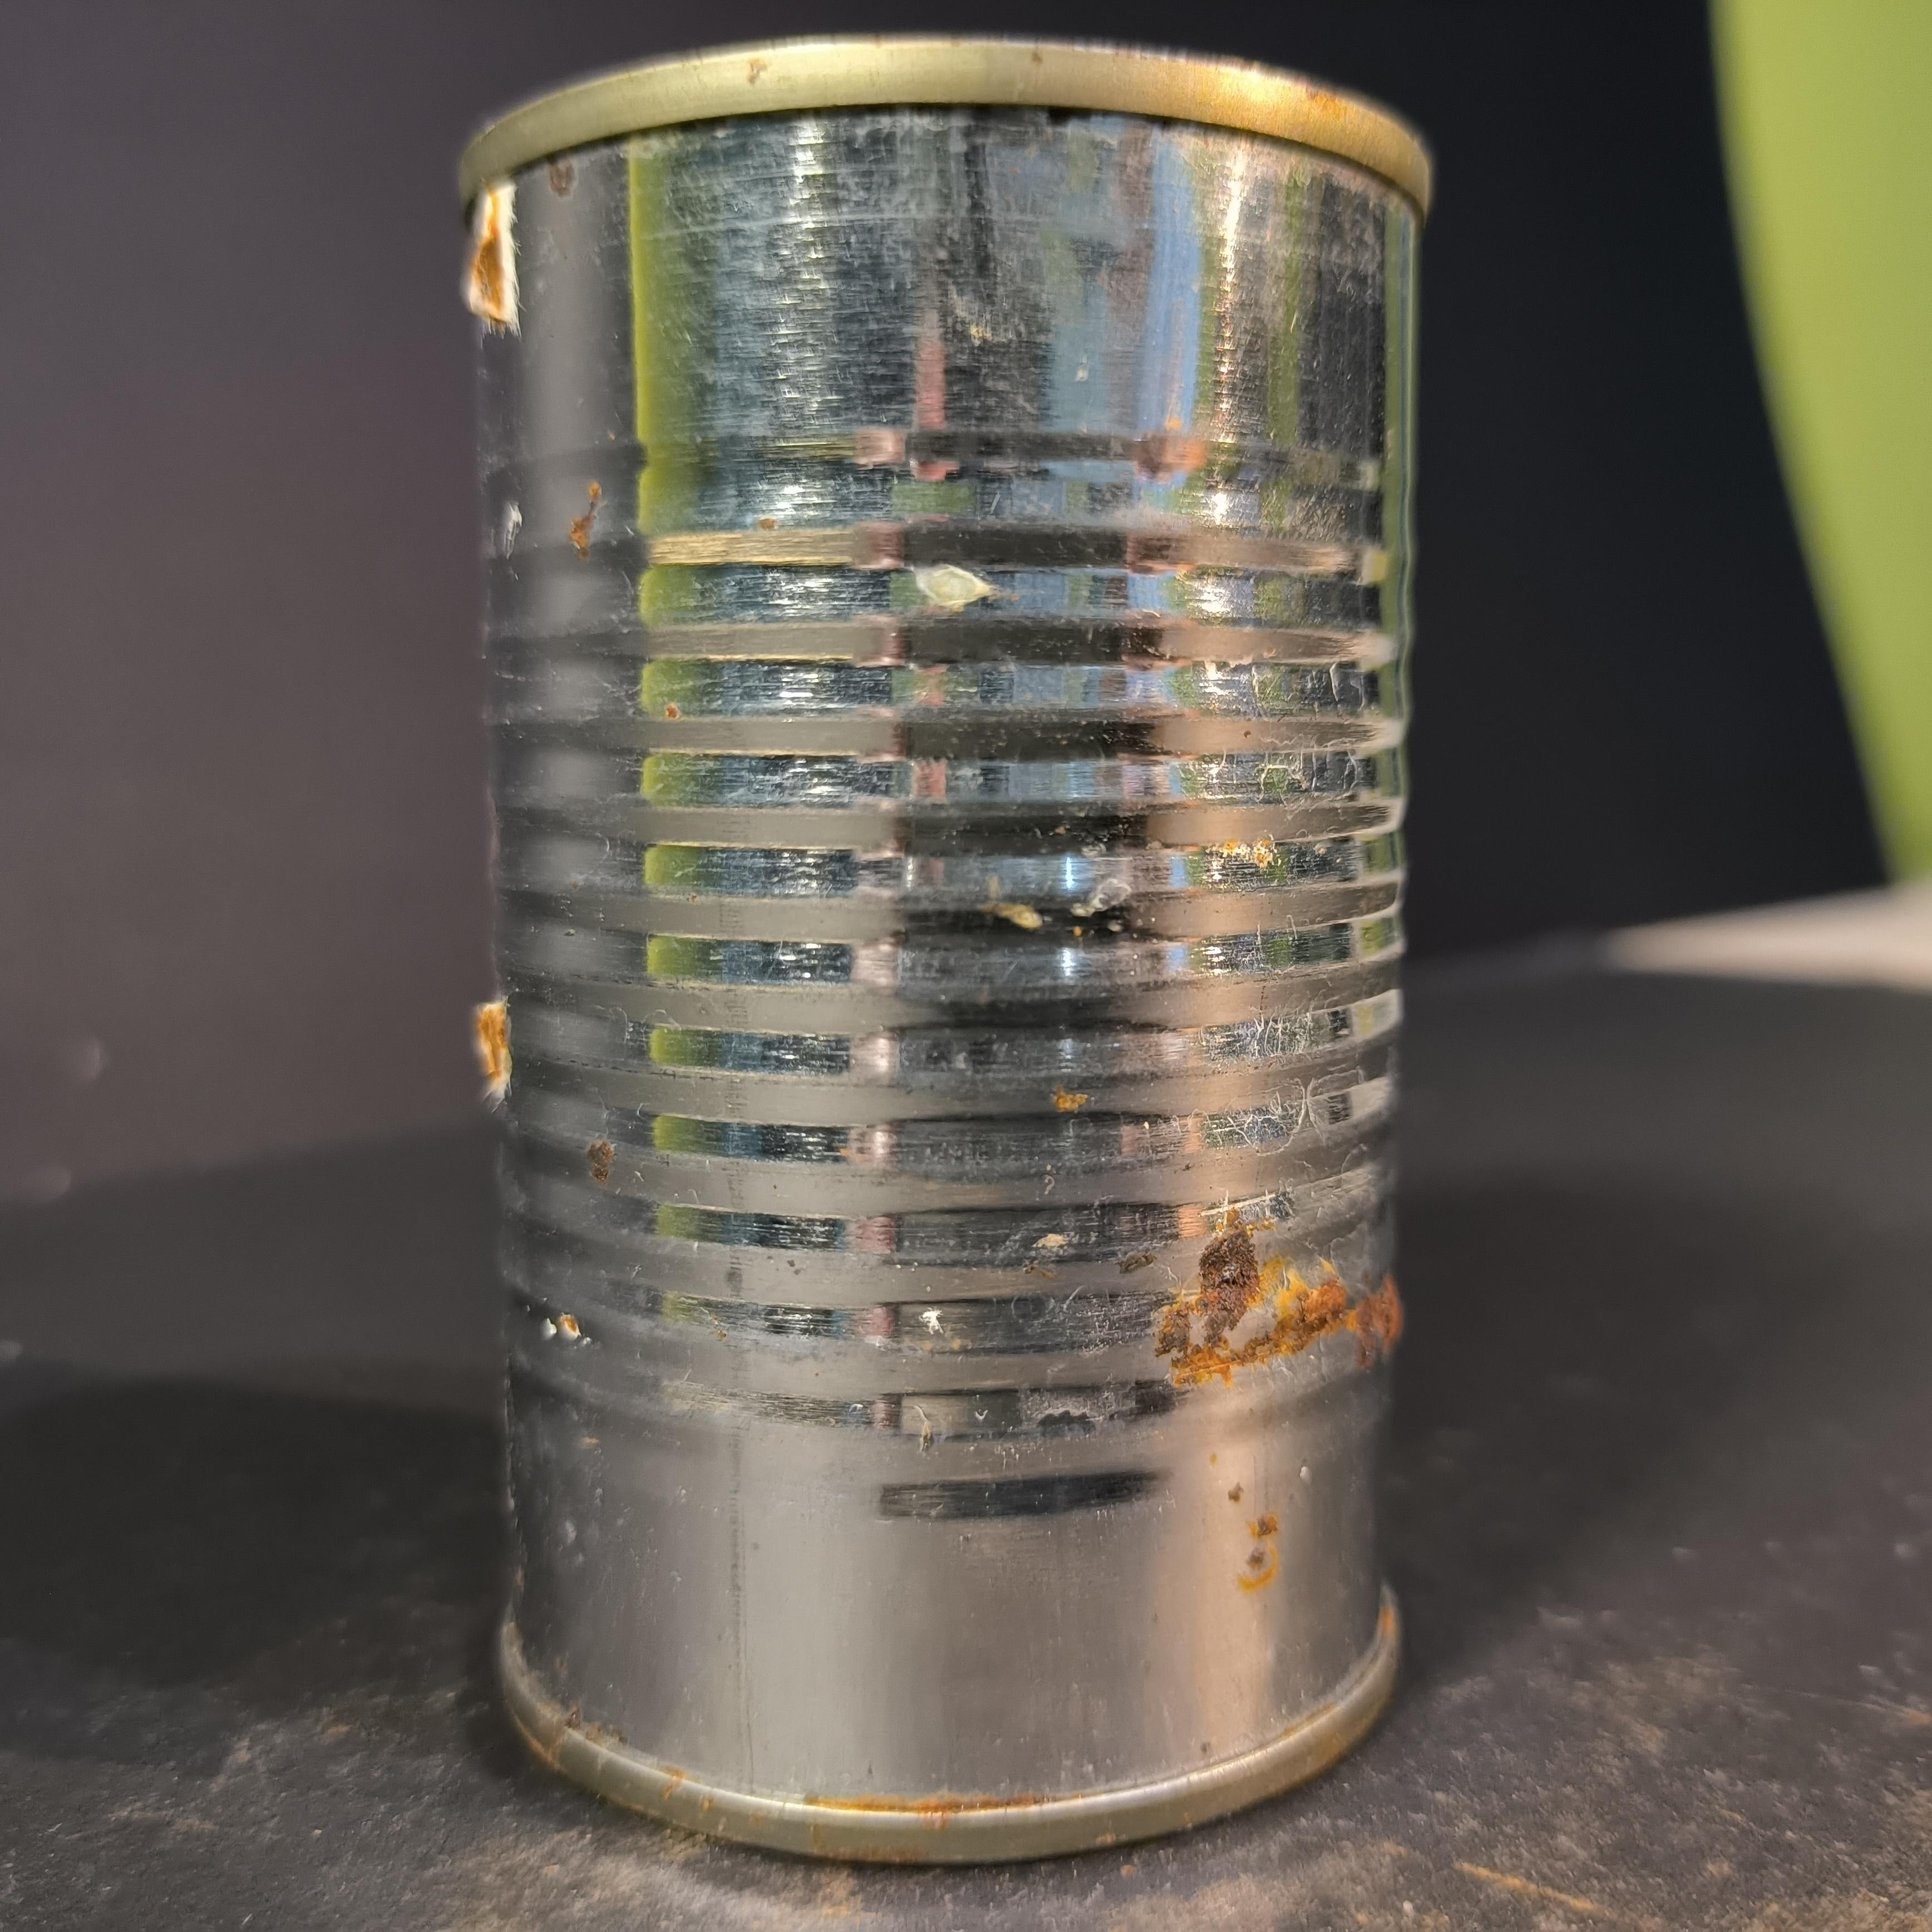Rusted: (442, 9, 1472, 1861)
